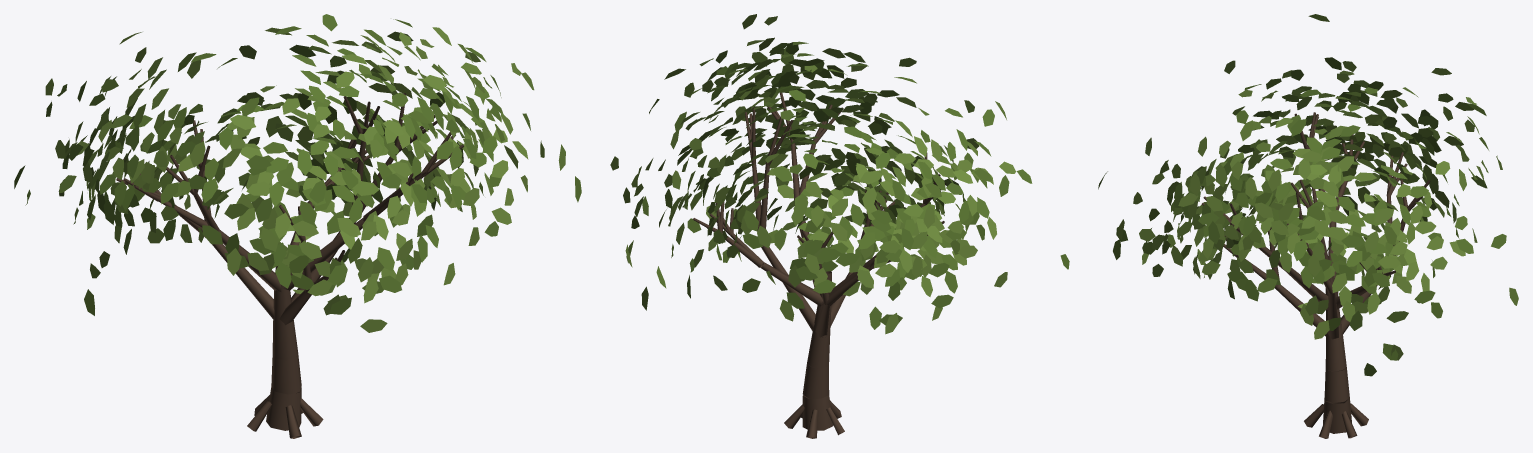
The model's file is apple_0.glb.
3 renders of one model, left to right at view 1: azimuth 30°, elevation 25°; view 2: azimuth 150°, elevation 25°; view 3: azimuth 270°, elevation 25°, orthographic. The views are drawn at different scales.
Visible parts, largest first — view 1: apple_0_LOD0; view 2: apple_0_LOD0; view 3: apple_0_LOD0.
Part boxes in pixels (x1=…): apple_0_LOD0: x1=14, y1=14, x2=581, y2=438; apple_0_LOD0: x1=610, y1=14, x2=1069, y2=438; apple_0_LOD0: x1=1098, y1=14, x2=1518, y2=438.
Size of what is drawn, in the model's own units: 1.62 by 1.38 by 1.5.
